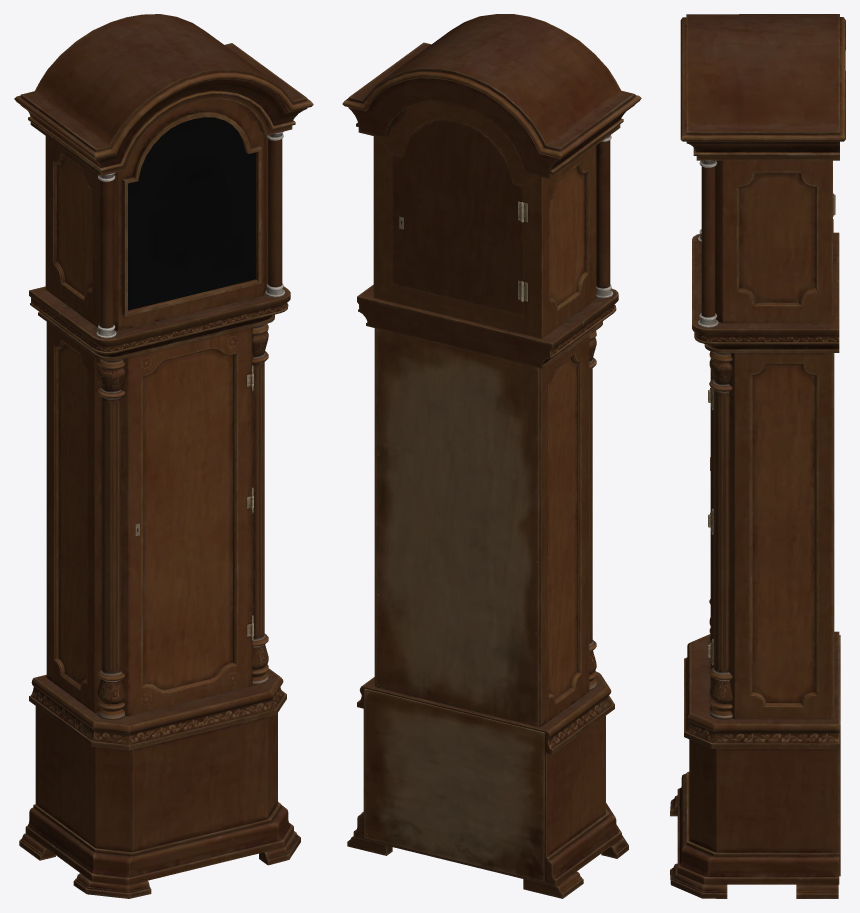
The model's file is vintage_grandfather_clock_01.glb.
The picture shows the model from 3 angles, left to right: view 1: azimuth 30°, elevation 25°; view 2: azimuth 150°, elevation 25°; view 3: azimuth 270°, elevation 25°; orthographic projection. The views are drawn at different scales.
Visible parts, largest first — view 1: vintage_grandfather_clock_01_body; view 2: vintage_grandfather_clock_01_body; view 3: vintage_grandfather_clock_01_body.
Part boxes in pixels (x1,y1,x2,y2): vintage_grandfather_clock_01_body: (14,14,313,898); vintage_grandfather_clock_01_body: (342,14,641,898); vintage_grandfather_clock_01_body: (670,14,845,898).
Size of the model in its own units: 0.6256 by 2.19 by 0.4266.
Materials: 2 (2 with a texture image).
